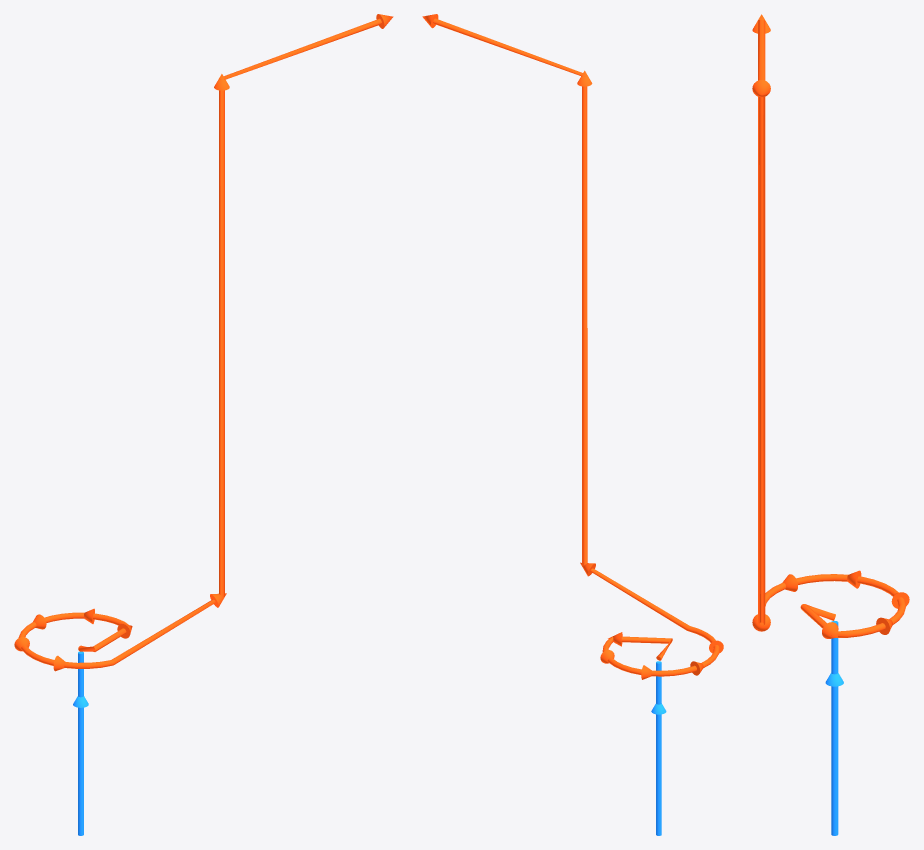
The model's file is vertical_sump_cantilever_pump_flow.glb.
3 renders of one model, left to right at view 1: azimuth 30°, elevation 25°; view 2: azimuth 150°, elevation 25°; view 3: azimuth 270°, elevation 25°, orthographic. The views are drawn at different scales.
Parts seen in each view (by area): view 1: flow_discharge, flow_suction; view 2: flow_discharge, flow_suction; view 3: flow_discharge, flow_suction.
Part boxes in pixels (<box>): flow_discharge: <box>14,14,393,671</box>; flow_suction: <box>73,651,88,835</box>; flow_discharge: <box>422,14,723,679</box>; flow_suction: <box>651,661,666,835</box>; flow_discharge: <box>752,14,909,638</box>; flow_suction: <box>825,620,843,835</box>.
Bounding box in the file's own units: 0.8895 × 1.97 × 0.3089.
